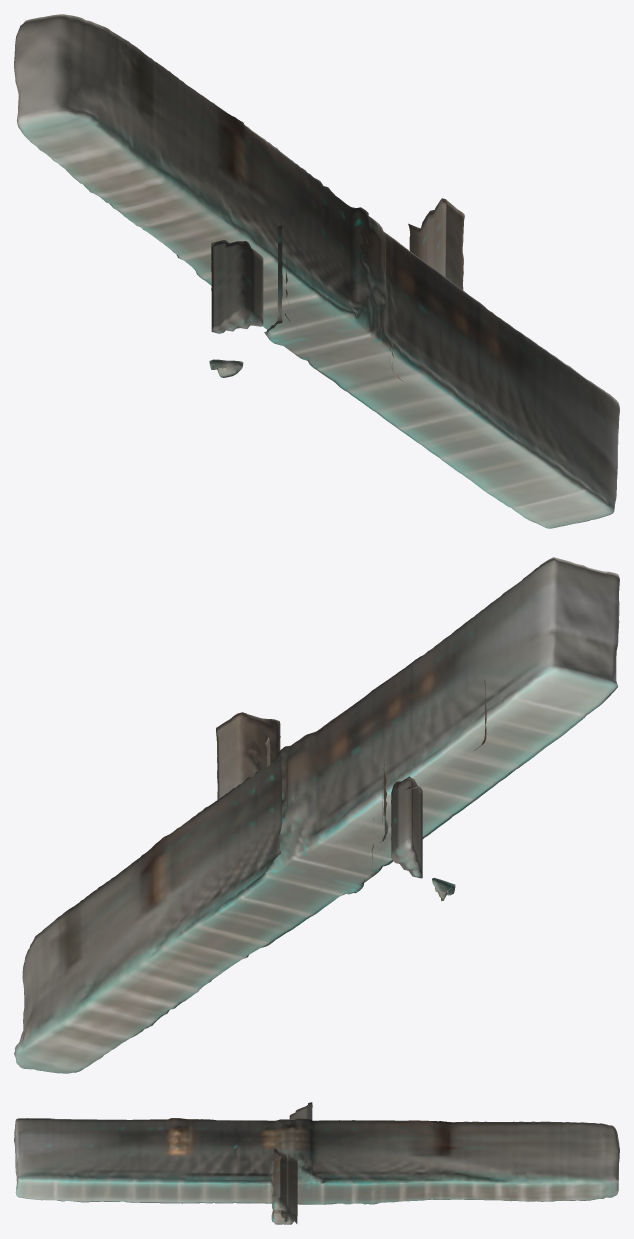
The model's file is collider.glb.
3 views of the same model, one above another, from view 1: azimuth 30°, elevation 25°; view 2: azimuth 150°, elevation 25°; view 3: azimuth 270°, elevation 25° (orthographic). The views are drawn at different scales.
Parts seen in each view (by area): view 1: world; view 2: world; view 3: world.
Part boxes in pixels (x1=…): world: x1=14, y1=14, x2=619, y2=528; world: x1=14, y1=557, x2=619, y2=1073; world: x1=14, y1=1102, x2=619, y2=1224.
Size of the model in its own units: 5.05 by 2.54 by 20.59.
